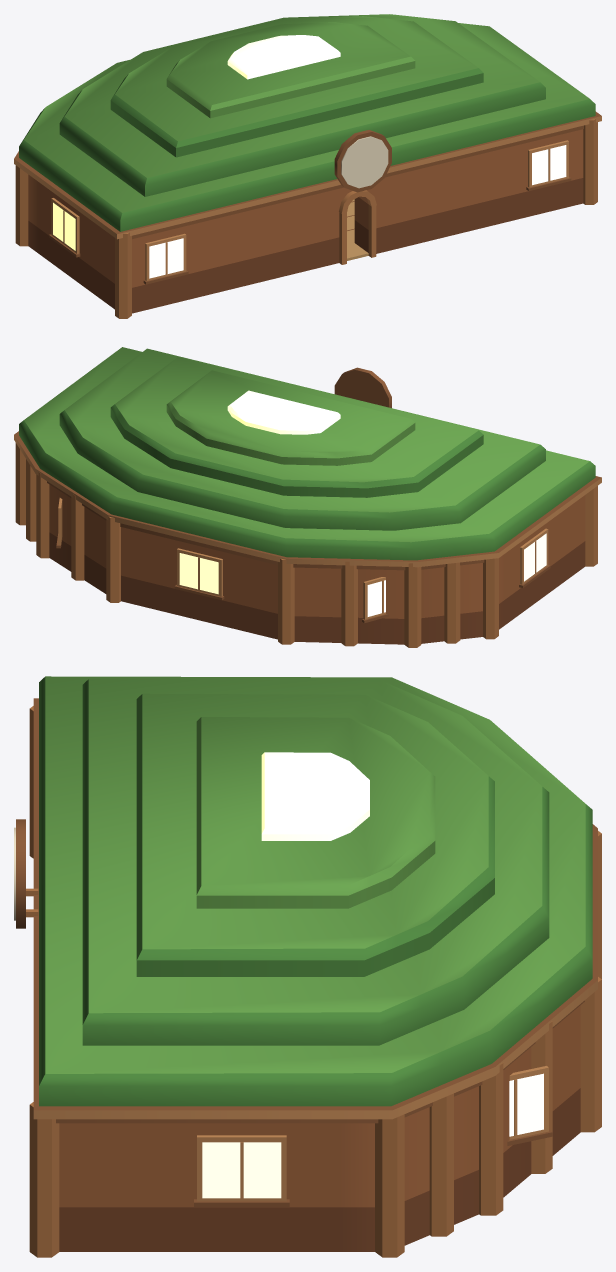
Rendered from terrarium_house.glb.
3 views of the same model, one above another, from view 1: azimuth 30°, elevation 25°; view 2: azimuth 150°, elevation 25°; view 3: azimuth 270°, elevation 25° (orthographic). The views are drawn at different scales.
Visible parts, largest first — view 1: roof, shell_upper, terrarium_house; view 2: roof, shell_upper, terrarium_house; view 3: roof, shell_upper, terrarium_house.
Boxes of the visible parts, bbox=[...] form: roof: bbox=[14, 14, 601, 239]; shell_upper: bbox=[15, 118, 597, 318]; terrarium_house: bbox=[28, 130, 583, 313]; roof: bbox=[14, 347, 601, 567]; shell_upper: bbox=[15, 443, 597, 647]; terrarium_house: bbox=[49, 367, 585, 644]; roof: bbox=[33, 676, 597, 1119]; shell_upper: bbox=[29, 706, 601, 1257]; terrarium_house: bbox=[14, 819, 580, 1251].
Bounding box in the file's own units: 19.76 × 5.9 × 11.92.
Materials: 2 (2 with a texture image).
